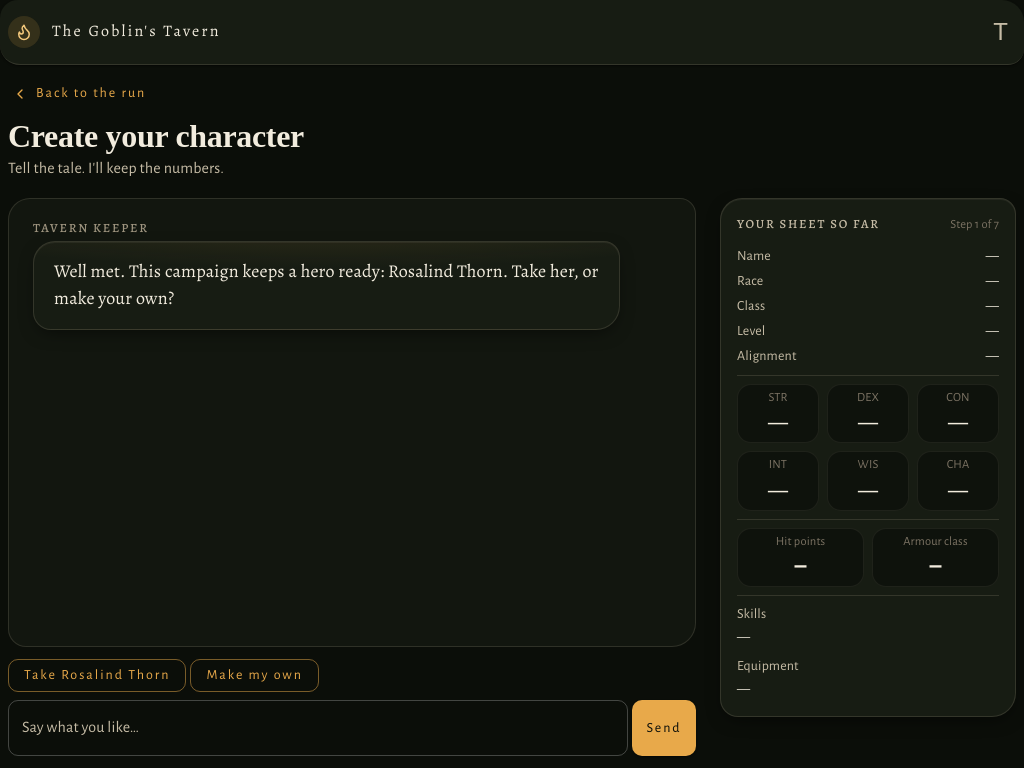
Test: CreationChatRoute on /runs/:runId/create-character (AC1, AC2, AC4-AC6) › shows the server's updated sheet even when one tool in the turn fails
This screenshot has width=1024, height=768.
Expected: the text "Well met. This campaign keeps a hero ready: Rosalind Thorn. Take her, or make your own?" is shown, [54, 259, 599, 310]
Type "Call me Ada" into the field labelled "Say what you like…". click: (318, 728)
box: [8, 700, 628, 756]
Then press Enter
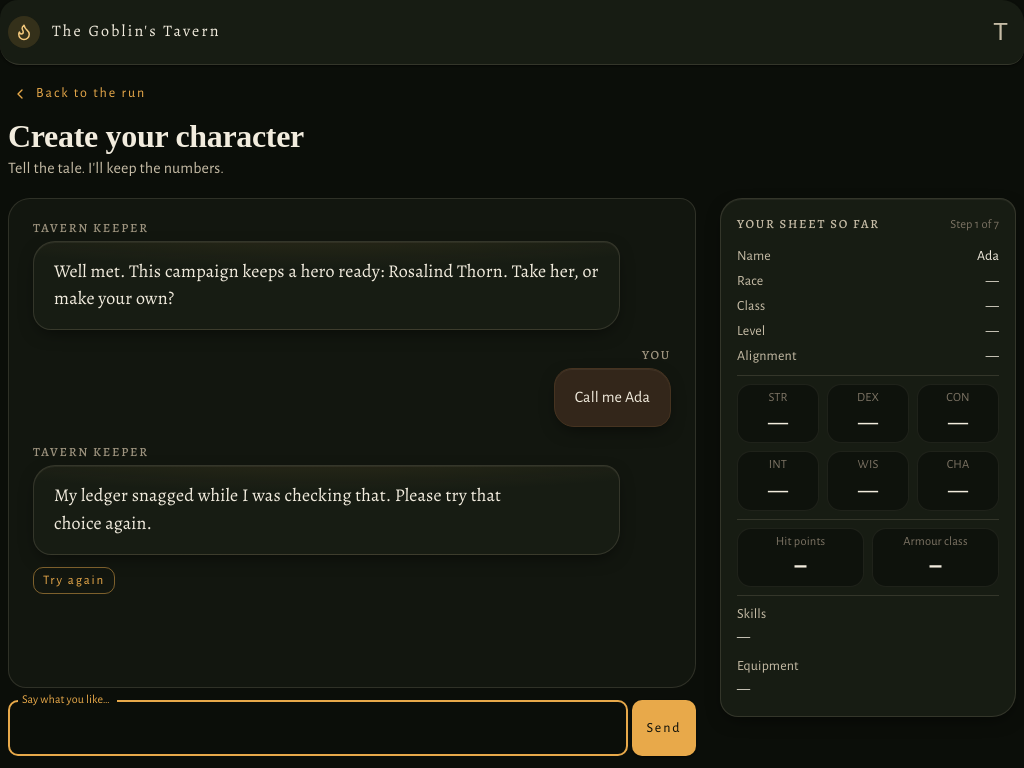
Now the text "Ada" is shown, box [977, 246, 999, 267]
Now the button "Try again" is shown, box [33, 567, 115, 594]
